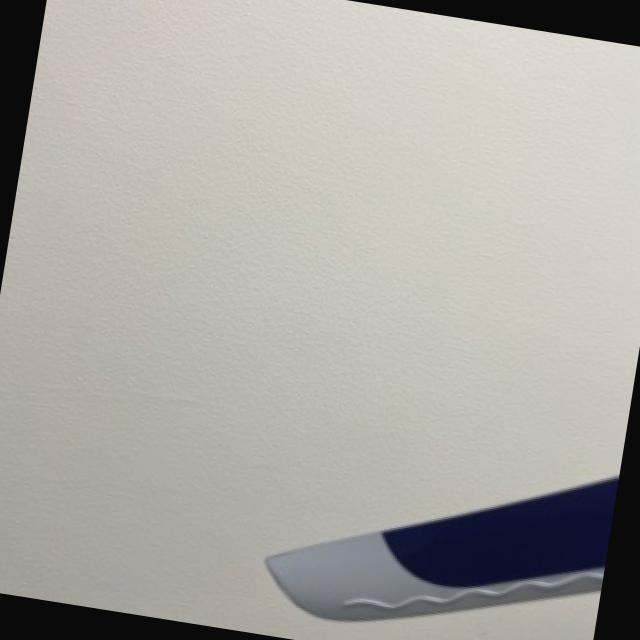healthy: (266, 477, 617, 619)
